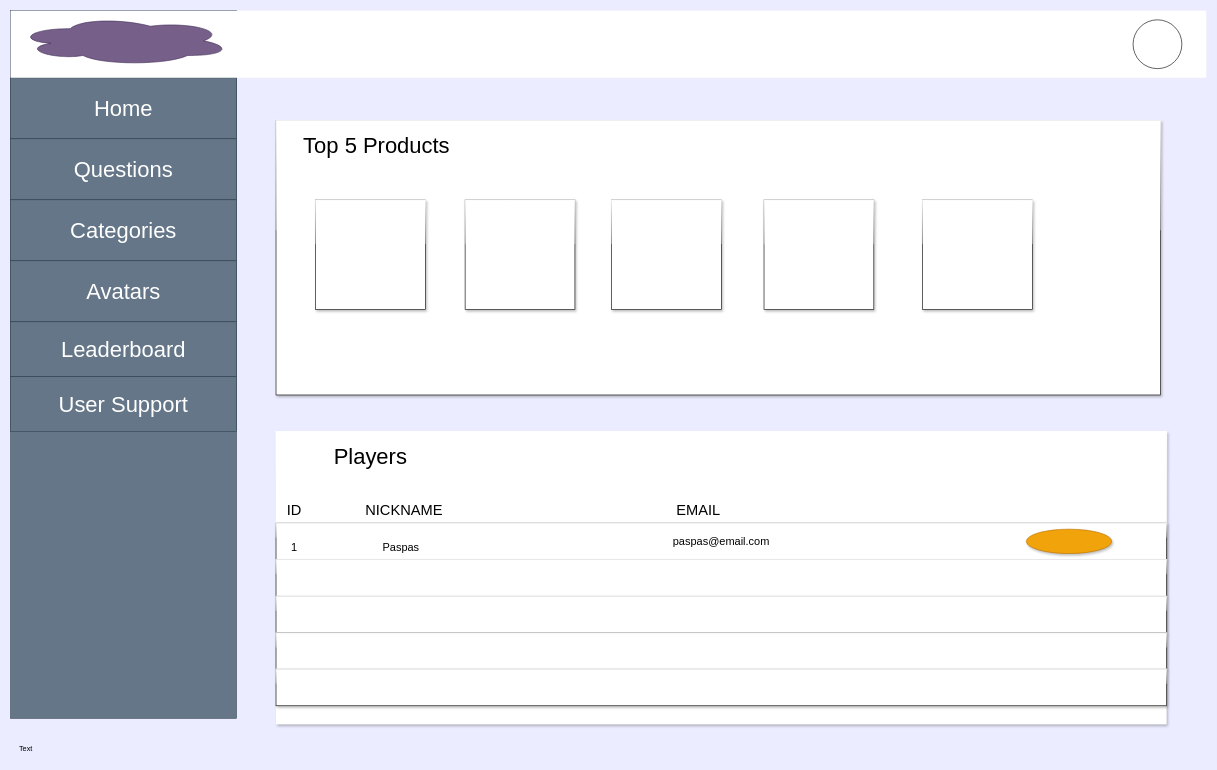
This 1217x770 diagram has some shape labels left out. Each missing label, with the centre of its shape:
"Admin" belongs at (x=1157, y=44).
"Quibot" belongs at (x=123, y=40).
"Show Stats" belongs at (x=1069, y=542).
